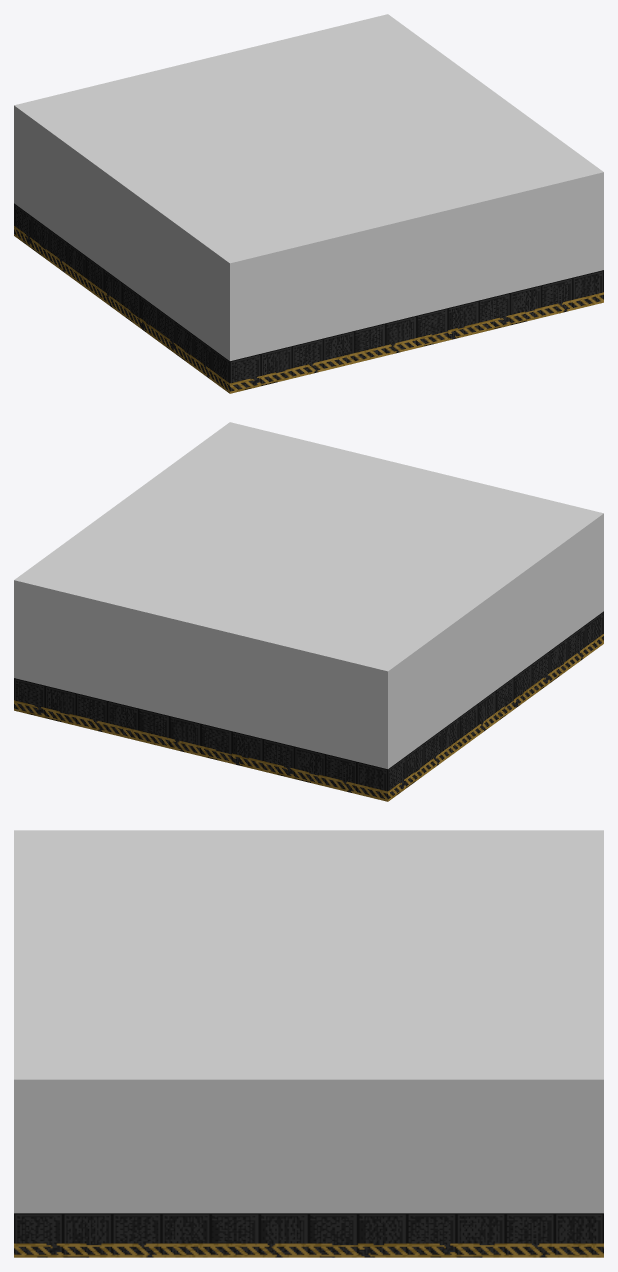
The model's file is Cube3x1WithMarks.fbx.
The picture shows the model from 3 angles, top to bottom: view 1: azimuth 30°, elevation 25°; view 2: azimuth 150°, elevation 25°; view 3: azimuth 270°, elevation 25°; orthographic projection. The views are drawn at different scales.
Parts seen in each view (by area): view 1: Cube.006; view 2: Cube.006; view 3: Cube.006.
Part boxes in pixels (<box>): Cube.006: <box>14,14,603,393</box>; Cube.006: <box>14,422,603,801</box>; Cube.006: <box>14,830,603,1257</box>.
Bounding box in the file's own units: 1200 × 400 × 1200.
